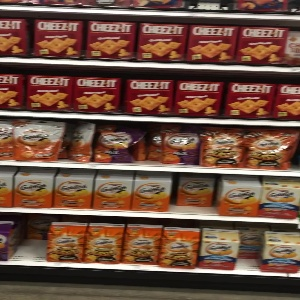void: (169, 174, 218, 217), (8, 216, 49, 263)
